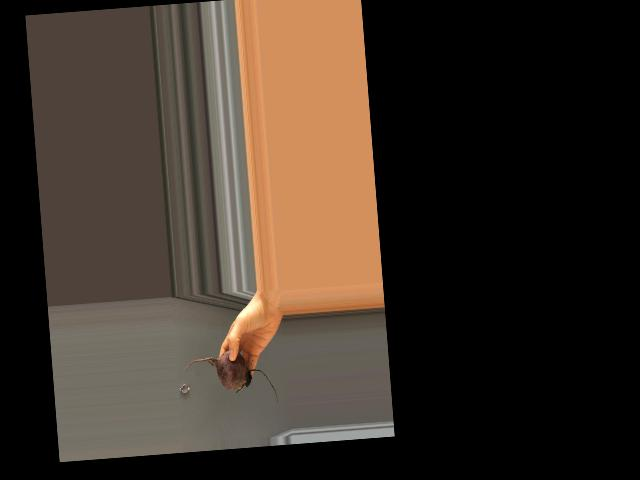beet: (183, 347, 278, 410)
